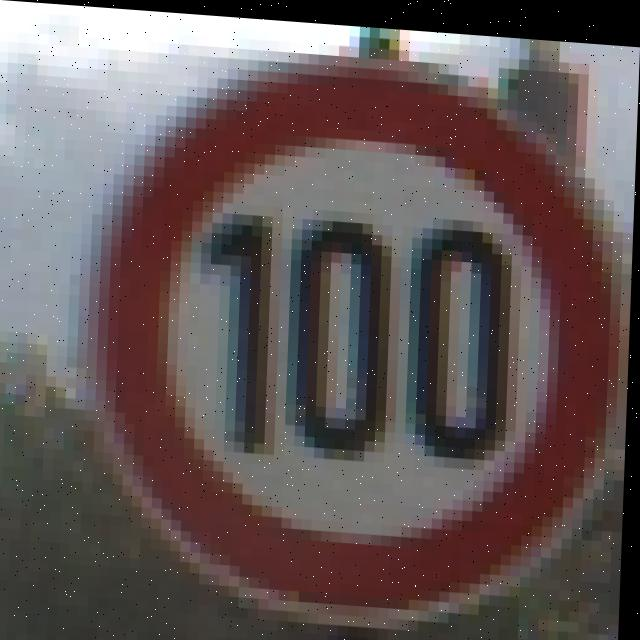speed_limit_100: (98, 58, 615, 621)
